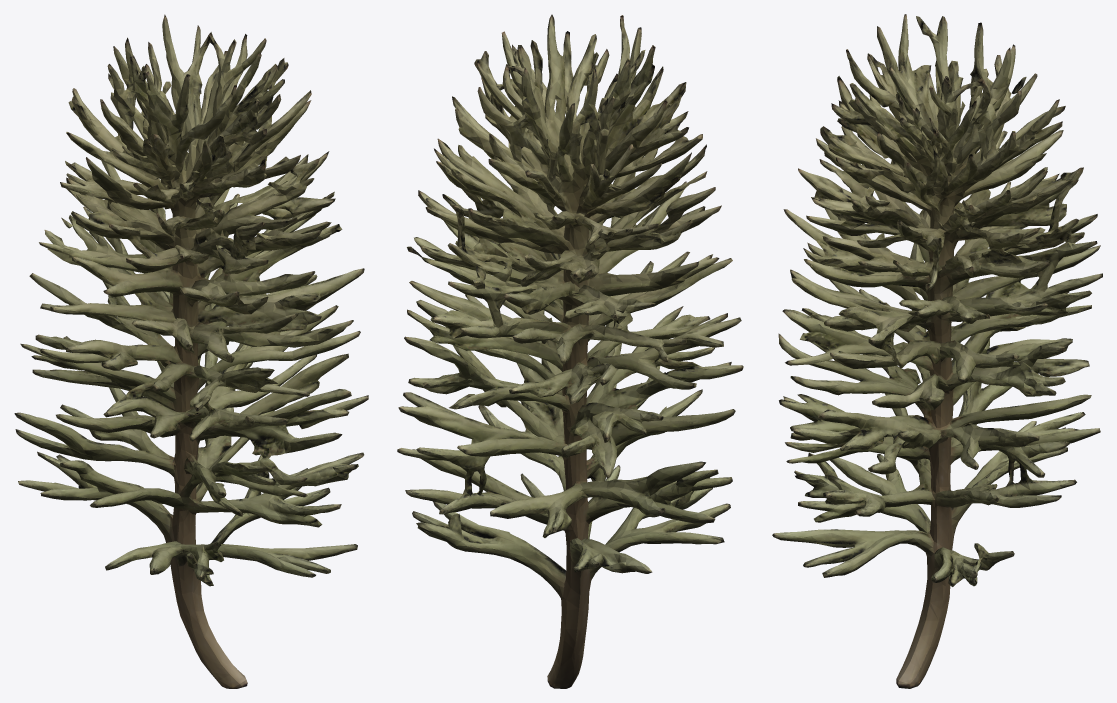
3 renders of one model, left to right at view 1: azimuth 30°, elevation 25°; view 2: azimuth 150°, elevation 25°; view 3: azimuth 270°, elevation 25°, orthographic. The views are drawn at different scales.
Visible parts, largest first — view 1: world; view 2: world; view 3: world.
Boxes of the visible parts, x1,y1,x2,y2 form: world: (14, 14, 368, 688); world: (397, 14, 743, 688); world: (772, 14, 1102, 688).
Size of the model in its own units: 0.8806 by 1.8 by 0.8594.
1 material, 1 textured.
